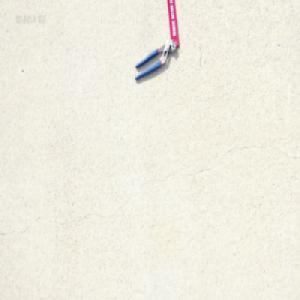Label: (166, 0, 180, 51)
Pliers: (133, 41, 176, 83)
